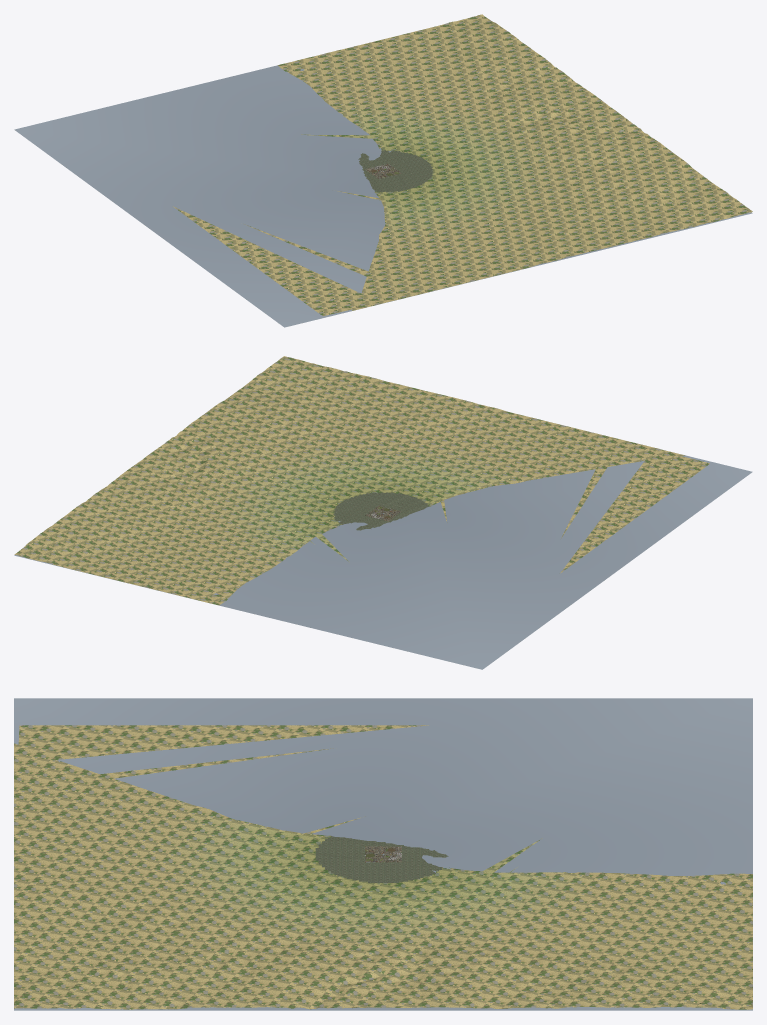
The model's file is hands_backdrop_part1.glb.
3 views of the same model, one above another, from view 1: azimuth 30°, elevation 25°; view 2: azimuth 150°, elevation 25°; view 3: azimuth 270°, elevation 25° (orthographic). The views are drawn at different scales.
Parts seen in each view (by area): view 1: bg_far_terrain, bg_far_water, bg_far_suburb; view 2: bg_far_terrain, bg_far_water, bg_far_suburb; view 3: bg_far_terrain, bg_far_water, bg_far_suburb, bg_near_ground.
Boxes of the visible parts, x1,y1,x2,y2 form: bg_far_terrain: (173,14,752,315); bg_far_water: (14,65,752,327); bg_far_suburb: (358,150,433,192); bg_far_terrain: (14,356,709,605); bg_far_water: (14,455,752,669); bg_far_suburb: (333,492,430,530); bg_far_terrain: (14,725,752,1009); bg_far_water: (14,698,752,1010); bg_far_suburb: (315,836,448,882); bg_near_ground: (365,846,401,862).
Size of the model in its own units: 60001 by 349 by 60002.
Materials: 22 (13 with a texture image).
